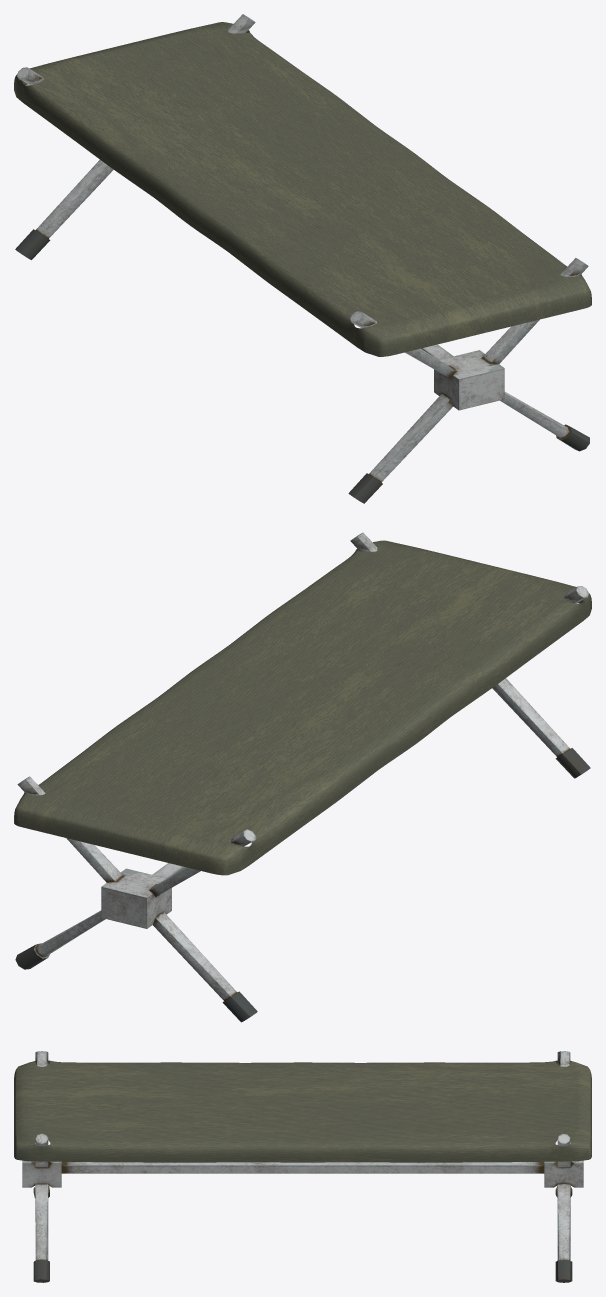
Rendered from bed.dae.
The picture shows the model from 3 angles, top to bottom: view 1: azimuth 30°, elevation 25°; view 2: azimuth 150°, elevation 25°; view 3: azimuth 270°, elevation 25°; orthographic projection. The views are drawn at different scales.
Parts seen in each view (by area): view 1: pPlane1, pCube3; view 2: pPlane1, pCube3; view 3: pPlane1, pCube3.
Boxes of the visible parts, <box> form: pPlane1: <box>14,22,591,356</box>; pCube3: <box>15,14,589,503</box>; pPlane1: <box>14,540,591,875</box>; pCube3: <box>15,532,590,1022</box>; pPlane1: <box>14,1060,591,1162</box>; pCube3: <box>22,1051,583,1282</box>.
Bounding box in the file's own units: 1.66 × 1.27 × 4.43.
2 materials, 2 textured.
